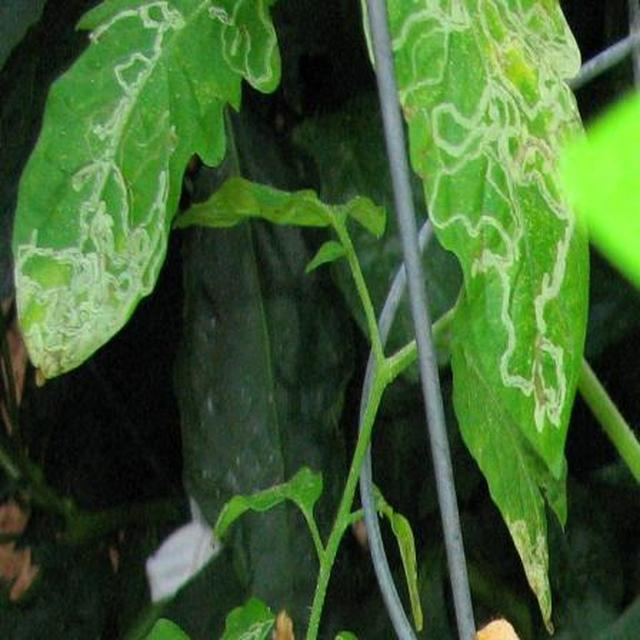Leaf Miner: (209, 272, 640, 640)
